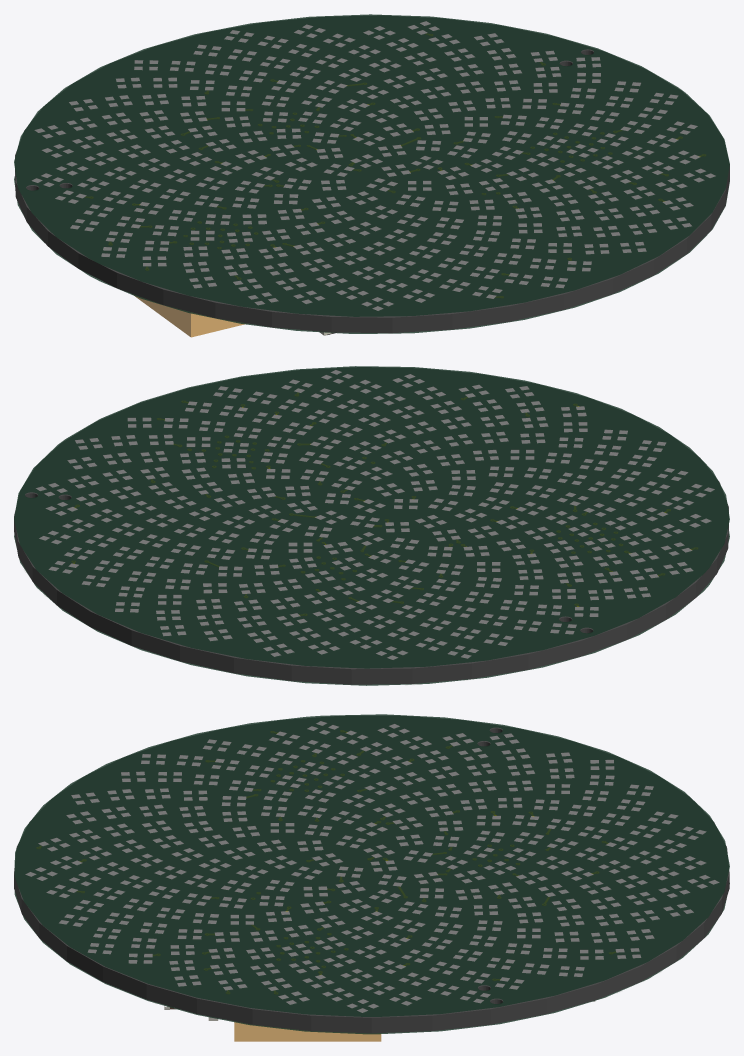
Rendered from board.glb.
The picture shows the model from 3 angles, top to bottom: view 1: azimuth 30°, elevation 25°; view 2: azimuth 150°, elevation 25°; view 3: azimuth 270°, elevation 25°; orthographic projection.
Parts seen in each view (by area): view 1: round-pendant_soldermask (×2), round-pendant_PCB, round-pendant_pad, U1, round-pendant_copper; view 2: round-pendant_soldermask (×2), round-pendant_PCB, round-pendant_pad; view 3: round-pendant_soldermask (×2), round-pendant_PCB, round-pendant_pad, U2.
Part boxes in pixels (<box>): round-pendant_soldermask (×2): <box>14,14,729,333</box>; round-pendant_PCB: <box>15,16,729,333</box>; round-pendant_pad: <box>32,21,715,310</box>; U1: <box>134,295,244,337</box>; round-pendant_copper: <box>85,34,705,297</box>; round-pendant_soldermask (×2): <box>14,366,729,685</box>; round-pendant_PCB: <box>14,367,728,684</box>; round-pendant_pad: <box>35,370,714,659</box>; round-pendant_soldermask (×2): <box>14,714,729,1034</box>; round-pendant_PCB: <box>14,716,729,1033</box>; round-pendant_pad: <box>25,721,719,1012</box>; U2: <box>234,1022,381,1041</box>.
Bounding box in the file's own units: 0.038 × 0.00354 × 0.038.
